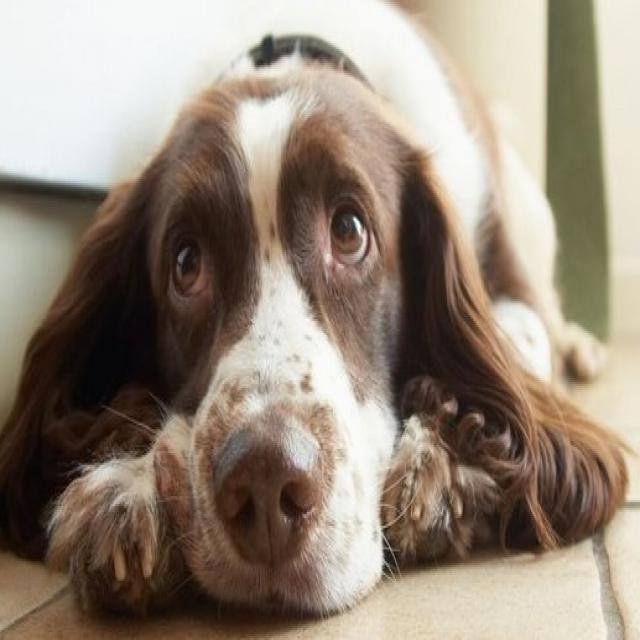eye: (165, 228, 216, 307), (326, 194, 374, 274)
